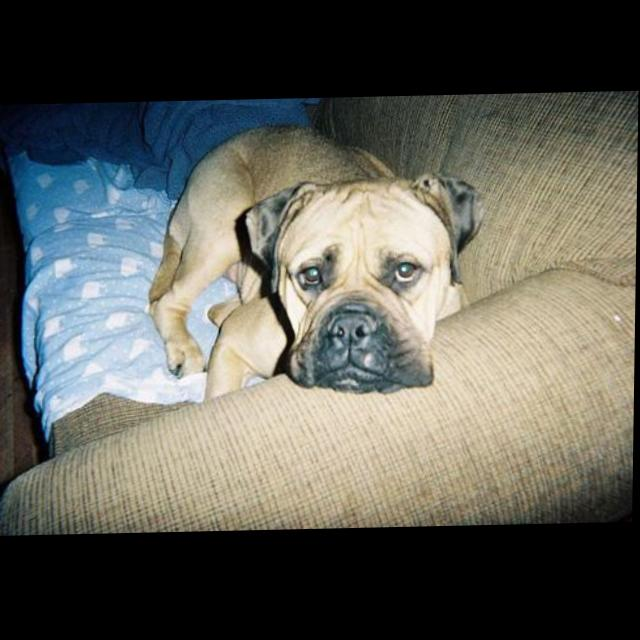bullmastiff: (148, 121, 486, 404)
